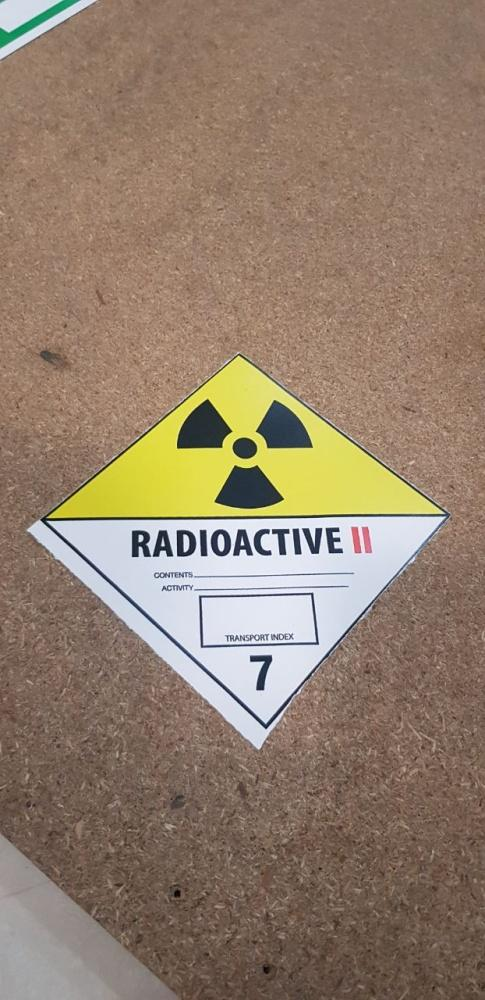radioactive: (41, 354, 451, 728)
